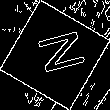N_W: (26, 29, 84, 81)
